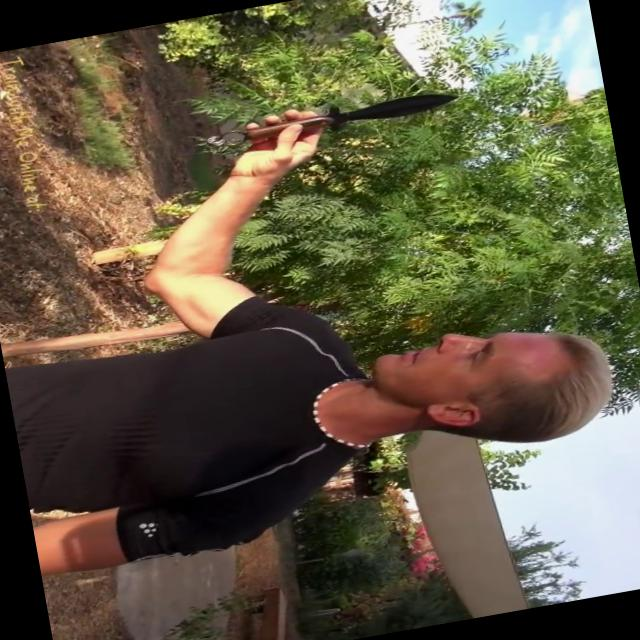knife: (256, 64, 489, 152)
